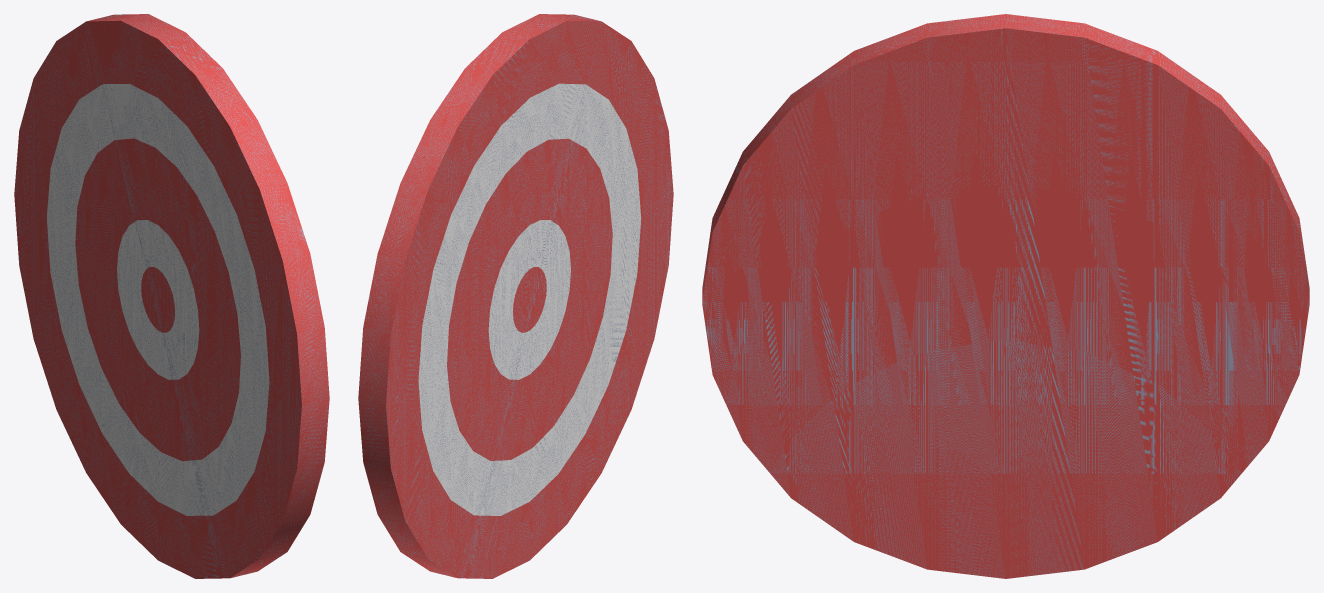
Rendered from Target 1.dae.
3 views of the same model, side by side, from view 1: azimuth 30°, elevation 25°; view 2: azimuth 150°, elevation 25°; view 3: azimuth 270°, elevation 25° (orthographic). The views are drawn at different scales.
Visible parts, largest first — view 1: SketchUp (×5); view 2: SketchUp (×5); view 3: SketchUp.
Part boxes in pixels (box(x1,y1,x2,y2)): SketchUp (×5): box(14, 14, 329, 578); SketchUp (×5): box(358, 14, 673, 578); SketchUp: box(702, 14, 1309, 578).
Size of the model in its own units: 2 by 36 by 36.
